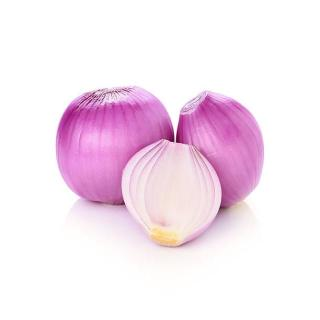Bawang Merah: (55, 84, 177, 211), (176, 89, 268, 211)
